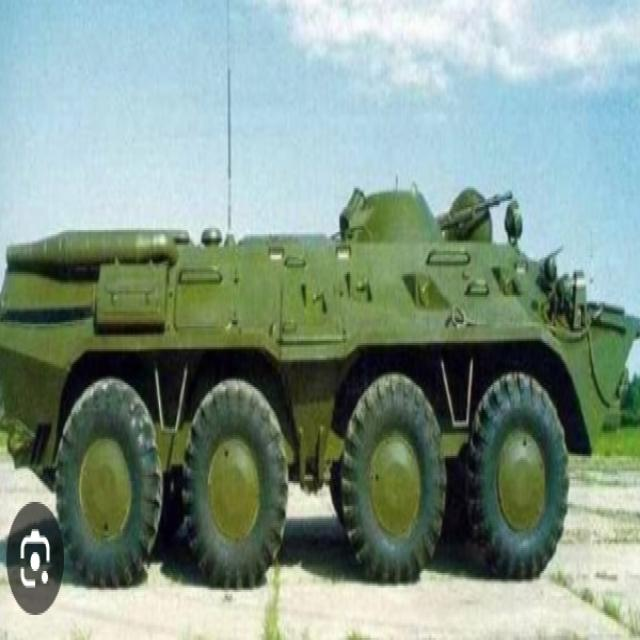MIL_APC: (4, 191, 640, 592)
